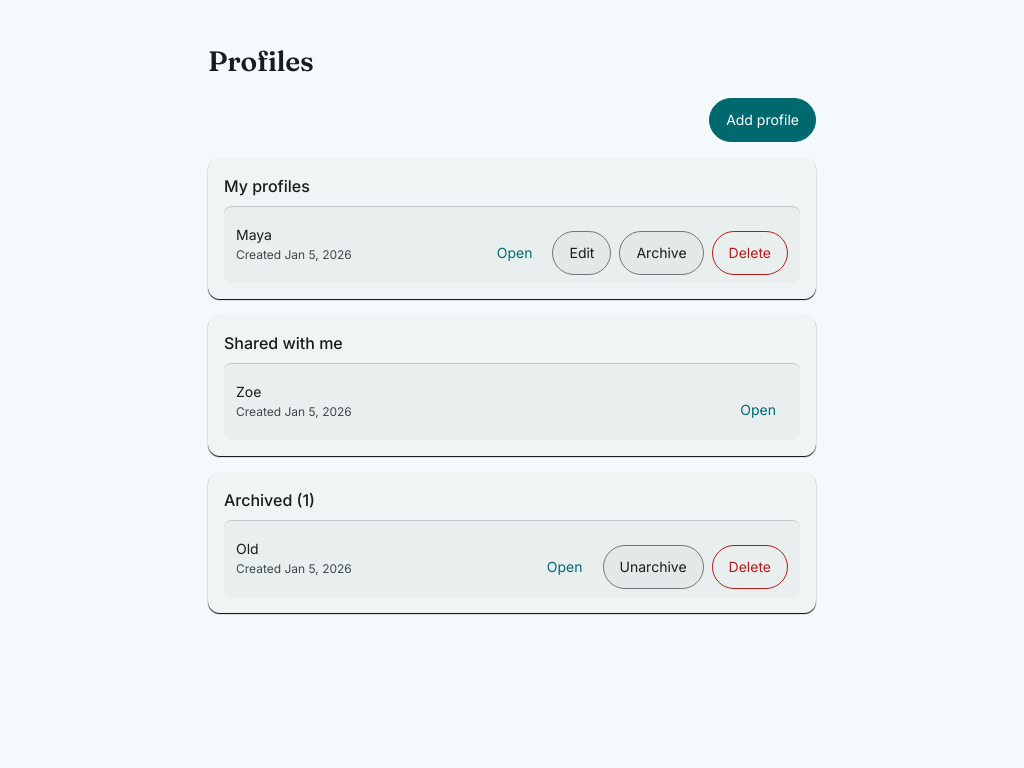
it: ProfilesPage (issue #1253) › deletes through the two-step confirm on delete_profile_data
What coordinates should you click on to do the following:
click the button "Delete" in the row of "Maya"
I would click on:
 (750, 252)
Its box is 712,230 -> 788,274.
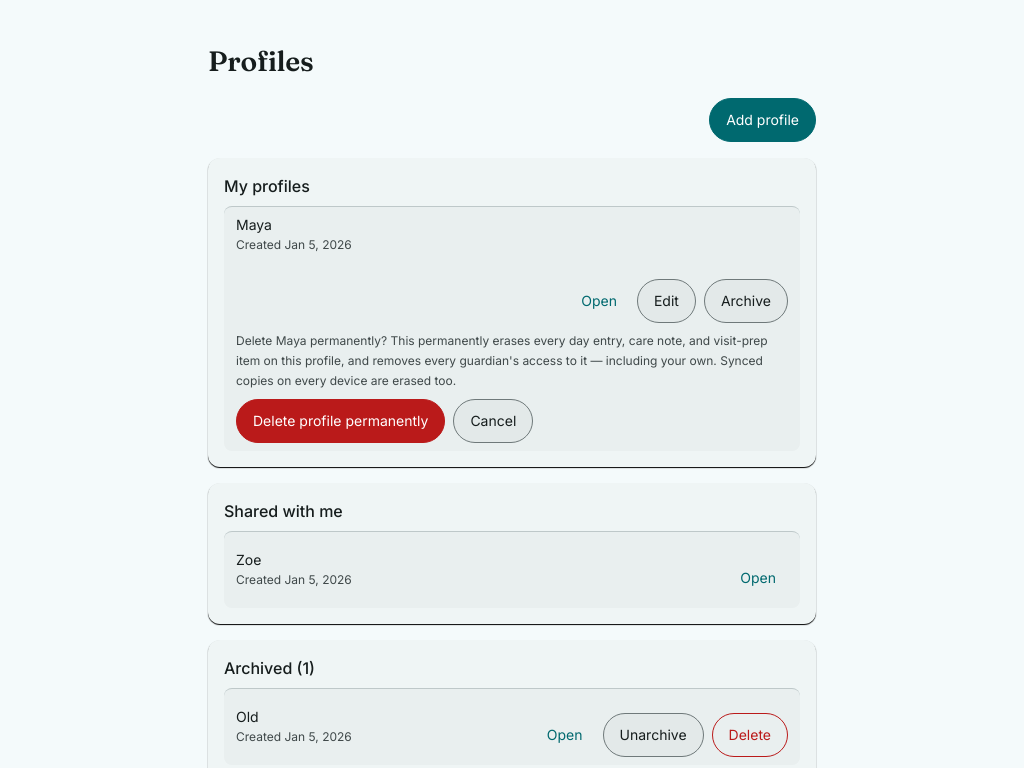
What coordinates should you click on to do the following:
click the button "Delete profile permanently"
I would click on:
 (341, 420)
Its box is 236,398 -> 445,442.
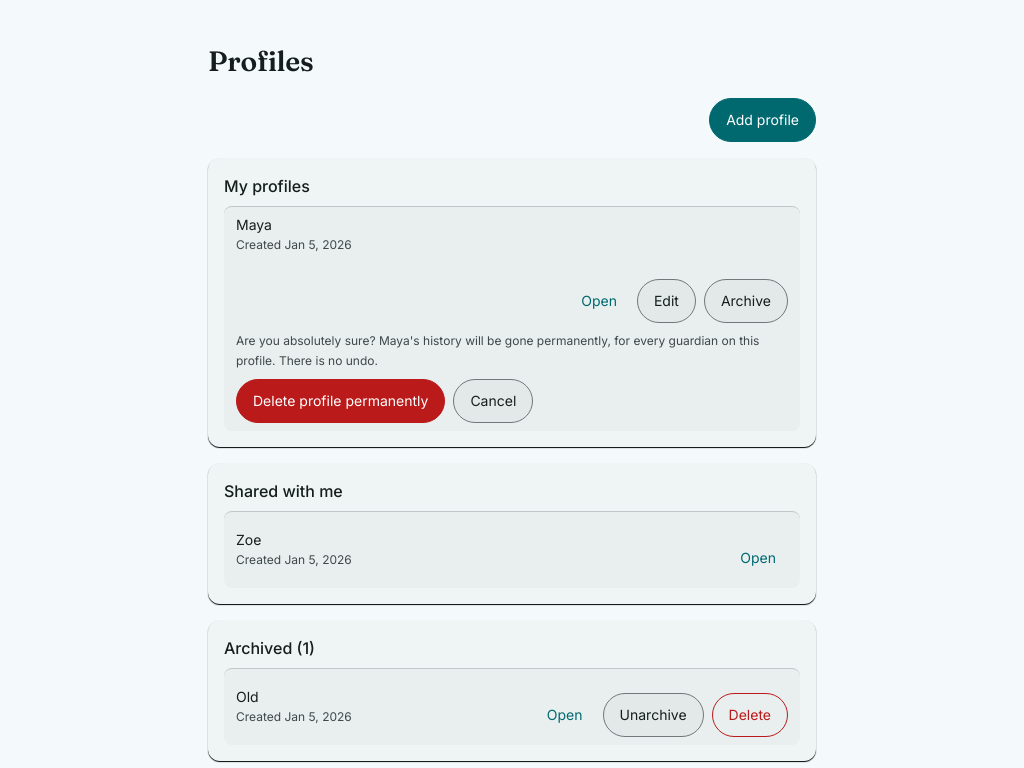
Expected: the dialog "Are you absolutely sure?" is shown, 236,330 -> 788,422
What coordinates should you click on to do the following:
click the button "Delete profile permanently"
I would click on:
 (341, 400)
Its box is 236,378 -> 445,422.
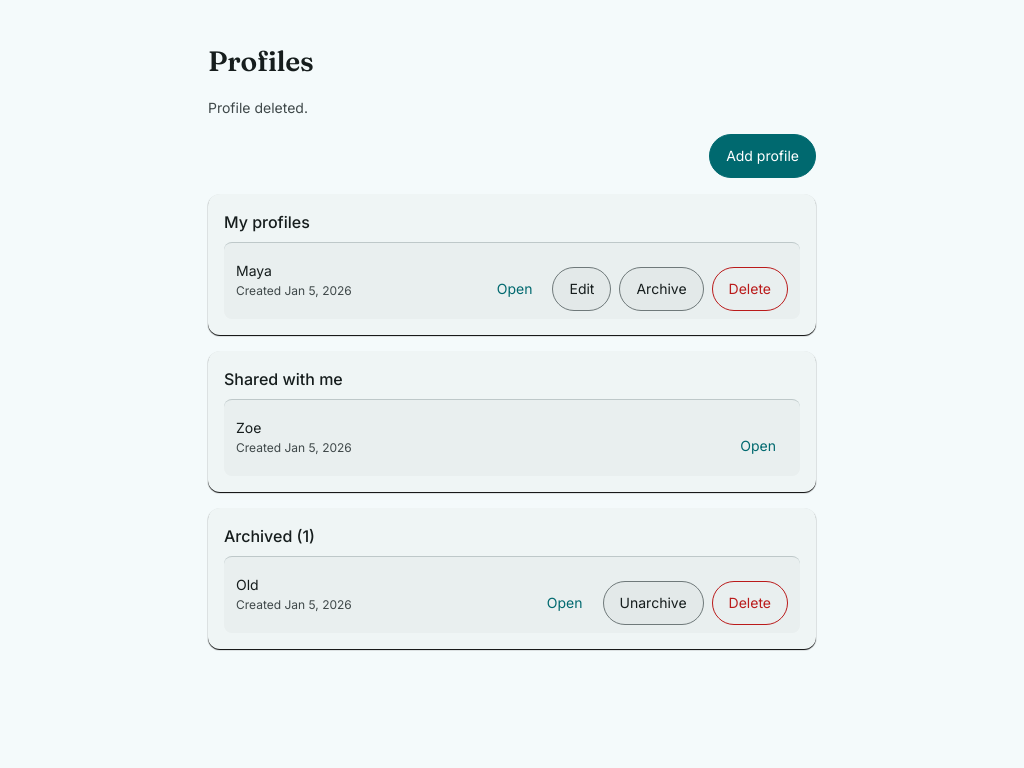
Expected: the text "Profile deleted." is shown, 208,98 -> 308,116
